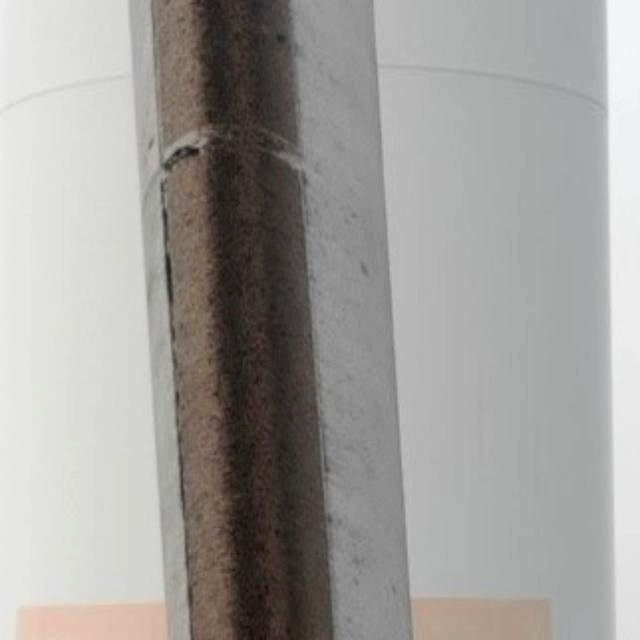EROSION: (155, 4, 346, 640)
